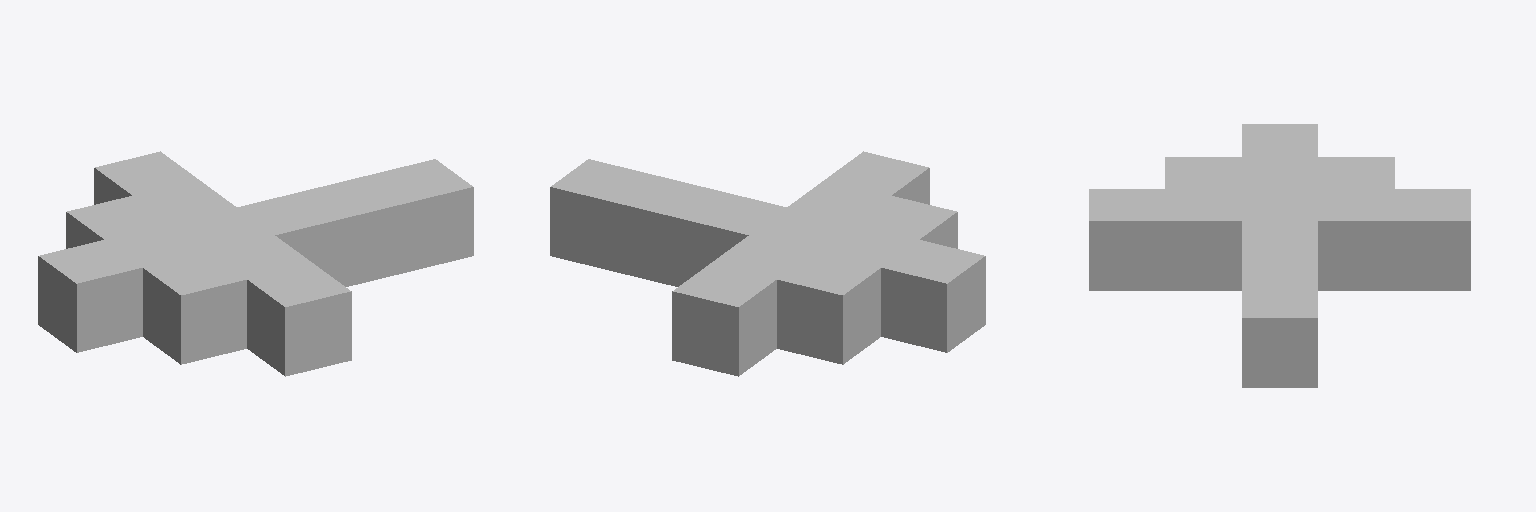
The model's file is kompas-1.obj.
The picture shows the model from 3 angles: view 1: azimuth 30°, elevation 25°; view 2: azimuth 150°, elevation 25°; view 3: azimuth 270°, elevation 25°; orthographic projection.
Parts seen in each view (by area): view 1: Untitled.001; view 2: Untitled.001; view 3: Untitled.001.
Part boxes in pixels (x1,y1,x2,y2): Untitled.001: (38,151,473,376); Untitled.001: (550,151,985,376); Untitled.001: (1089,124,1470,387).
Bounding box in the file's own units: 0.6 × 0.1 × 0.5.